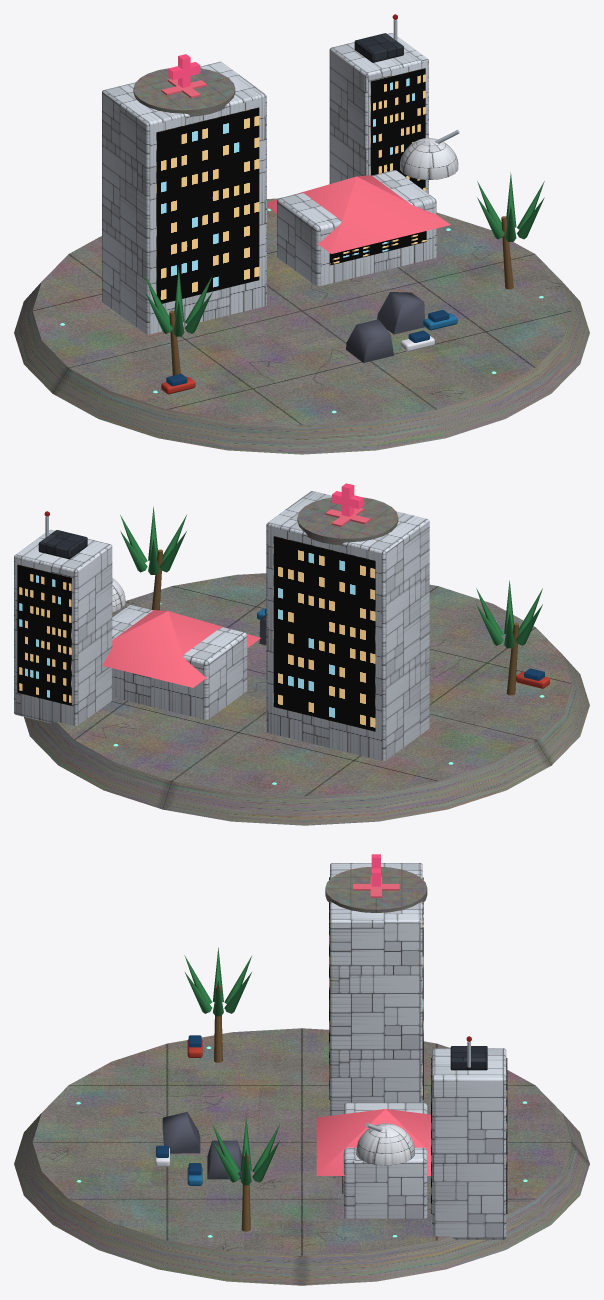
Rendered from welfare-T4.glb.
3 views of the same model, one above another, from view 1: azimuth 30°, elevation 25°; view 2: azimuth 150°, elevation 25°; view 3: azimuth 270°, elevation 25° (orthographic).
Parts seen in each view (by area): view 1: object 1, object 11, object 12, object 19, object 51, object 20, object 52, object 16, grass, object 22, object 21, object 54; view 2: object 1, object 11, object 13, object 51, object 19, object 53, object 20, object 16, object 54, object 25, anim:car; view 3: object 1, object 11, object 51, object 19, object 20, object 16, grass, object 22, object 54.
Part boxes in pixels (bbox=[...]): object 1: bbox=[14, 198, 589, 454]; object 11: bbox=[102, 61, 266, 334]; object 12: bbox=[156, 107, 259, 303]; object 19: bbox=[277, 170, 436, 286]; object 51: bbox=[329, 33, 428, 193]; object 20: bbox=[267, 175, 450, 253]; object 52: bbox=[370, 68, 425, 191]; object 16: bbox=[133, 68, 235, 116]; grass: bbox=[346, 292, 424, 362]; object 22: bbox=[400, 138, 458, 179]; object 21: bbox=[329, 231, 426, 265]; object 54: bbox=[354, 33, 403, 62]; object 1: bbox=[24, 573, 589, 825]; object 11: bbox=[266, 491, 429, 760]; object 13: bbox=[273, 536, 375, 731]; object 51: bbox=[14, 529, 112, 725]; object 19: bbox=[112, 604, 247, 719]; object 53: bbox=[17, 564, 71, 705]; object 20: bbox=[102, 610, 260, 687]; object 16: bbox=[297, 497, 398, 545]; object 54: bbox=[38, 530, 87, 559]; object 25: bbox=[506, 623, 518, 695]; anim:car: bbox=[516, 668, 549, 688]; object 1: bbox=[14, 1028, 589, 1285]; object 11: bbox=[330, 863, 422, 1115]; object 51: bbox=[432, 1048, 506, 1239]; object 19: bbox=[343, 1102, 427, 1218]; object 20: bbox=[316, 1109, 430, 1175]; object 16: bbox=[325, 867, 427, 912]; grass: bbox=[162, 1112, 242, 1179]; object 22: bbox=[356, 1123, 414, 1165]; object 54: bbox=[450, 1046, 487, 1070].
Bounding box in the file's own units: 6.2 × 3.51 × 6.2.
Materials: 31 (7 with a texture image).
